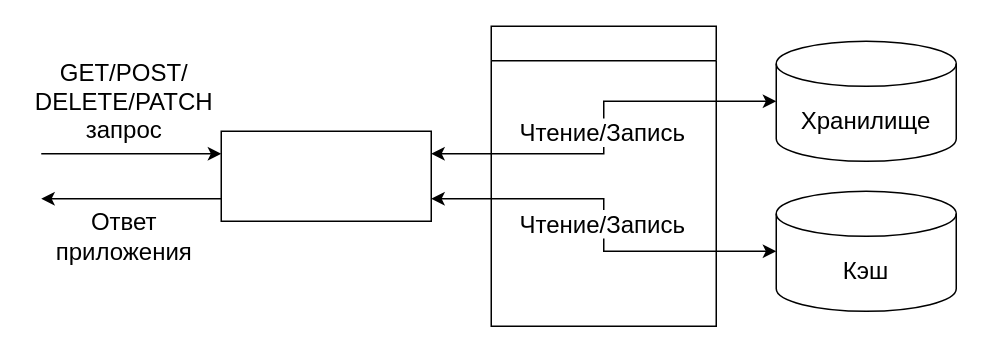
Image size: 983x353. Some labels were removed from this diagram. The box of each missing label's shape, as (x1, y1, x2, y2) in pixels:
REST API Backend приложение: (220, 130, 431, 221)
Коннекторы: (490, 25, 716, 326)
